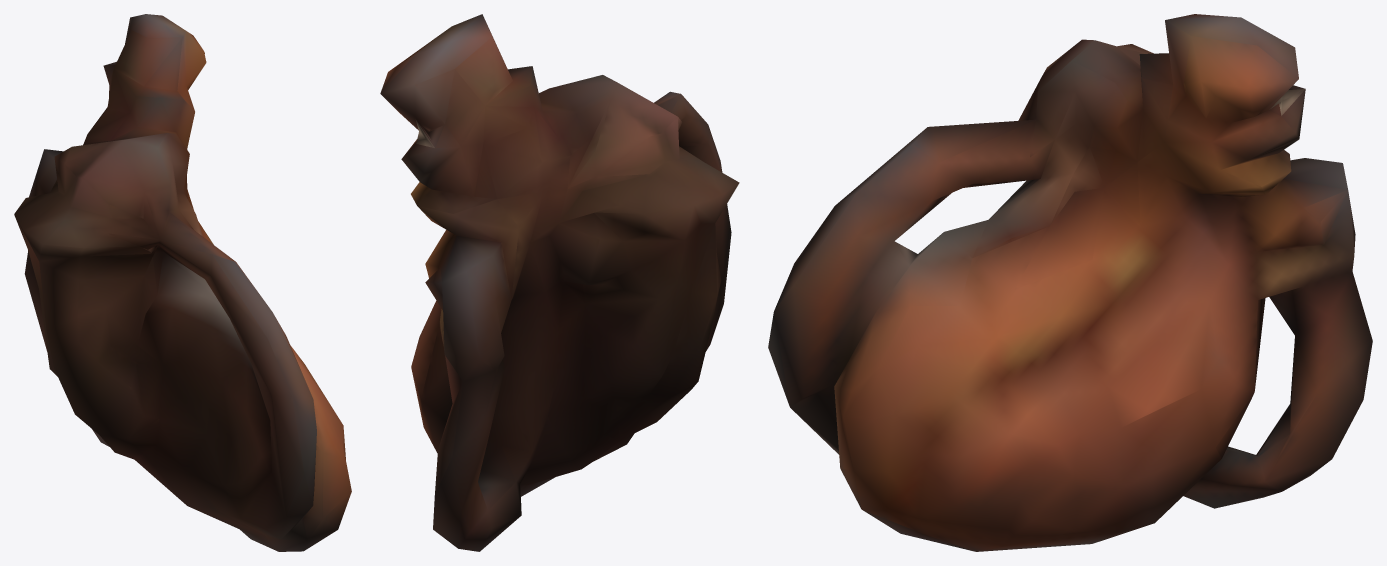
Rendered from waterskin_empty.glb.
3 renders of one model, left to right at view 1: azimuth 30°, elevation 25°; view 2: azimuth 150°, elevation 25°; view 3: azimuth 270°, elevation 25°, orthographic. The views are drawn at different scales.
Parts seen in each view (by area): view 1: model; view 2: model; view 3: model.
Boxes of the visible parts, <box> form: model: <box>14,14,351,551</box>; model: <box>380,14,739,551</box>; model: <box>768,14,1372,551</box>.
Bounding box in the file's own units: 0.2155 × 0.3853 × 0.4036.
1 material, 1 textured.
